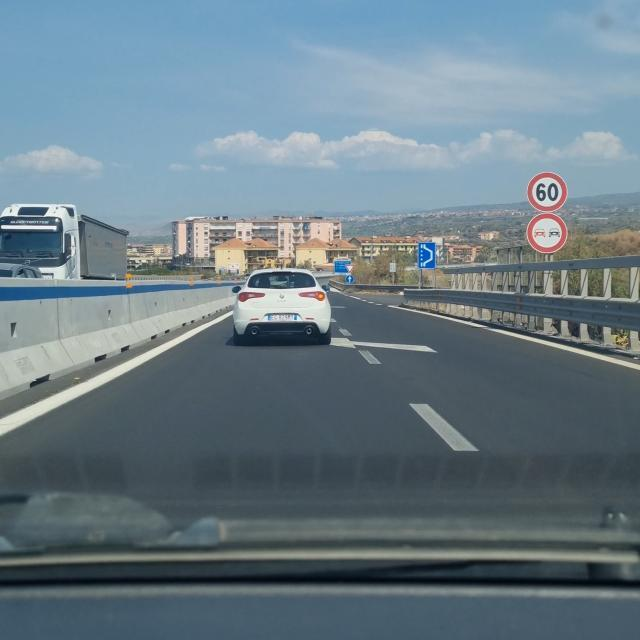forb_overtake: (526, 213, 568, 253)
forb_speed_over_60: (526, 171, 568, 213)
prio_give_way: (345, 264, 356, 274)
